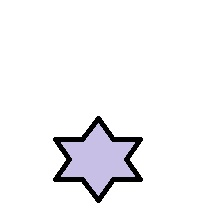star: (53, 115, 143, 203)
